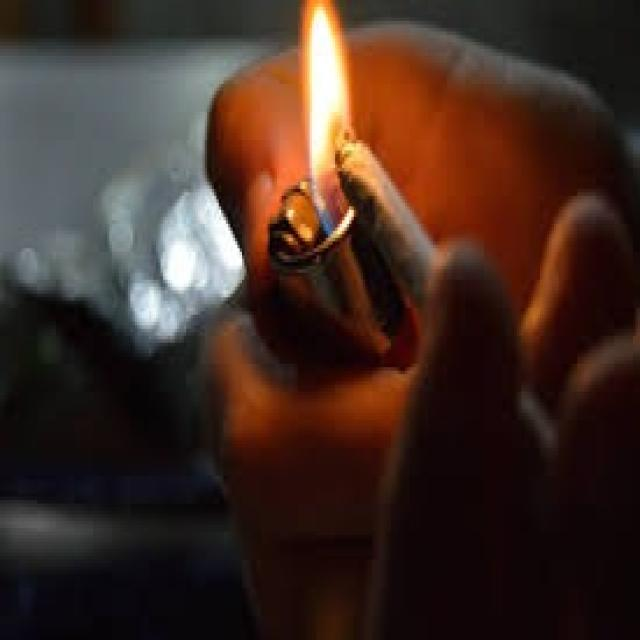fire: (301, 0, 349, 239)
